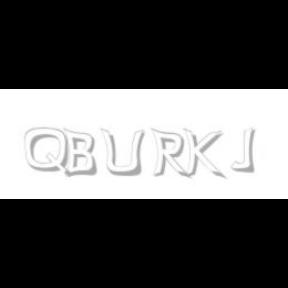B: (63, 128, 97, 178)
J: (230, 128, 256, 172)
K: (183, 128, 223, 180)
Q: (25, 128, 71, 178)
R: (150, 128, 188, 180)
U: (100, 128, 144, 178)
